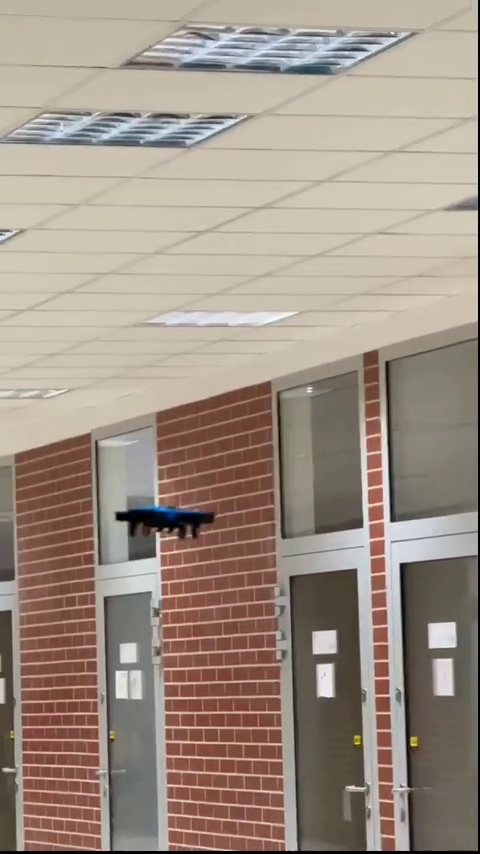drone: (115, 498, 224, 545)
